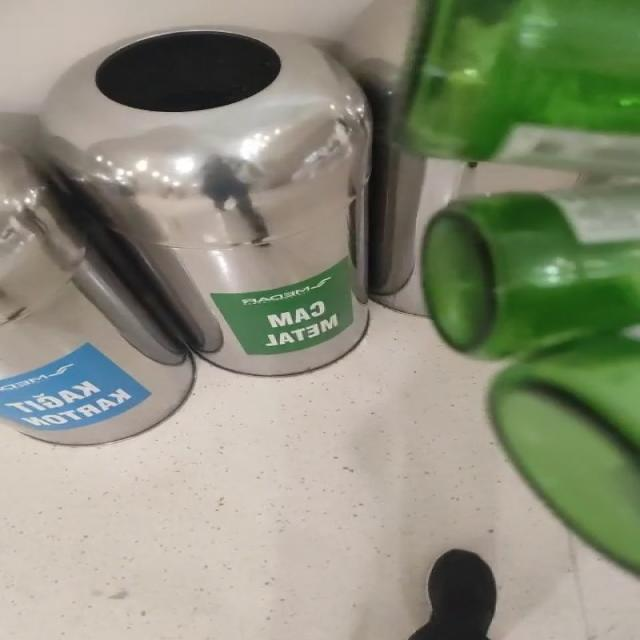Glass: (423, 182, 640, 572), (405, 0, 639, 175)
